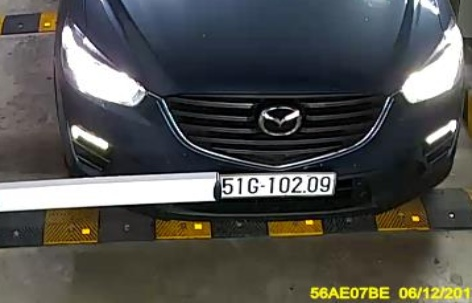plate: (212, 168, 343, 207)
